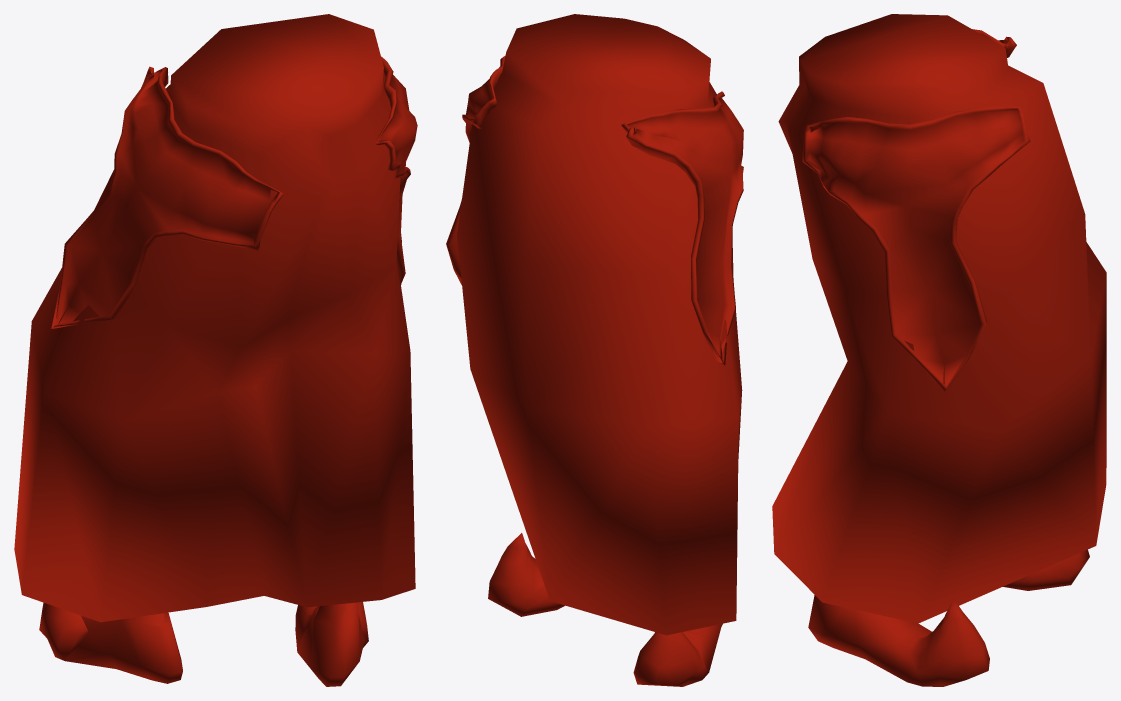
Rendered from bot_000070.obj.
3 renders of one model, left to right at view 1: azimuth 30°, elevation 25°; view 2: azimuth 150°, elevation 25°; view 3: azimuth 270°, elevation 25°, orthographic. The views are drawn at different scales.
Parts seen in each view (by area): view 1: LowPoly_Warlock.004_Plane.004; view 2: LowPoly_Warlock.004_Plane.004; view 3: LowPoly_Warlock.004_Plane.004.
Boxes of the visible parts, x1,y1,x2,y2 form: LowPoly_Warlock.004_Plane.004: (14, 14, 417, 686); LowPoly_Warlock.004_Plane.004: (446, 14, 743, 686); LowPoly_Warlock.004_Plane.004: (772, 14, 1106, 686).
Bounding box in the file's own units: 0.6151 × 1.07 × 0.5383.
